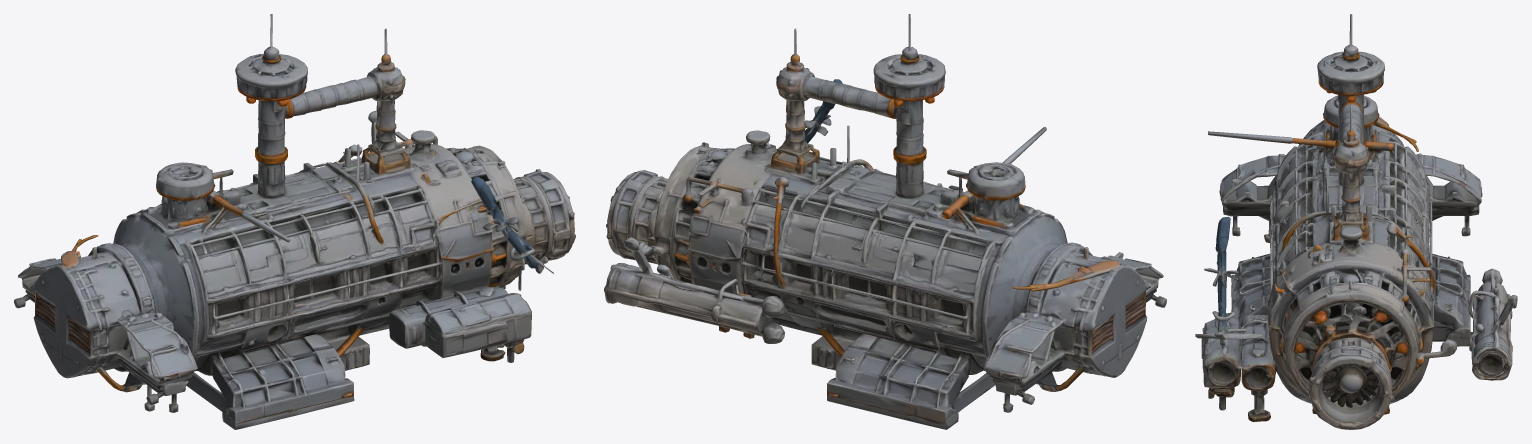
The model's file is factorystation.glb.
3 views of the same model, side by side, from view 1: azimuth 30°, elevation 25°; view 2: azimuth 150°, elevation 25°; view 3: azimuth 270°, elevation 25° (orthographic). The views are drawn at different scales.
Visible parts, largest first — view 1: tripo_node_c50a7860-bcfb-4a11-834c-37d7d1545bb3; view 2: tripo_node_c50a7860-bcfb-4a11-834c-37d7d1545bb3; view 3: tripo_node_c50a7860-bcfb-4a11-834c-37d7d1545bb3.
Part boxes in pixels (left/top/right/bottom): tripo_node_c50a7860-bcfb-4a11-834c-37d7d1545bb3: left=14, top=14, right=575, bottom=429; tripo_node_c50a7860-bcfb-4a11-834c-37d7d1545bb3: left=604, top=14, right=1166, bottom=429; tripo_node_c50a7860-bcfb-4a11-834c-37d7d1545bb3: left=1195, top=14, right=1517, bottom=429.
Size of the model in its own units: 0.9995 by 0.6693 by 0.6.
Materials: 1 (1 with a texture image).
